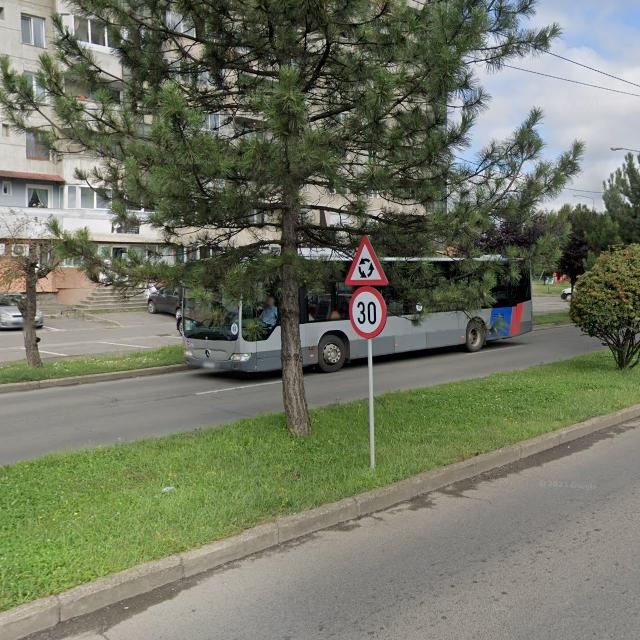forb_speed_over_30: (348, 287, 386, 338)
warn_roundabout: (344, 234, 388, 286)
